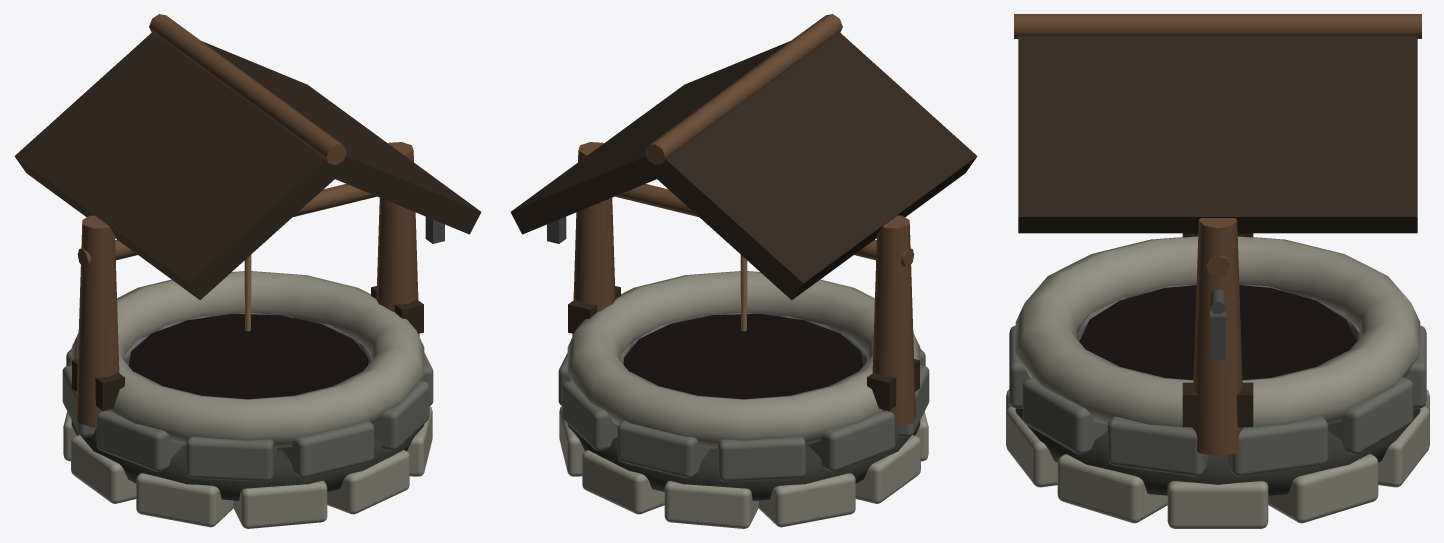
File: sk_well.glb
3 renders of one model, left to right at view 1: azimuth 30°, elevation 25°; view 2: azimuth 150°, elevation 25°; view 3: azimuth 270°, elevation 25°, orthographic. The views are drawn at different scales.
Visible parts, largest first — view 1: wood, stone, object 6, brick; view 2: wood, stone, object 6, brick; view 3: wood, stone, object 6, brick, metal.
Boxes of the visible parts, left/top/right/bottom form: wood: left=14, top=14, right=481, bottom=427; stone: left=62, top=271, right=433, bottom=528; object 6: left=128, top=313, right=367, bottom=399; brick: left=71, top=420, right=424, bottom=500; wood: left=510, top=14, right=977, bottom=427; stone: left=558, top=271, right=929, bottom=528; object 6: left=624, top=313, right=863, bottom=399; brick: left=567, top=420, right=920, bottom=500; wood: left=1014, top=14, right=1421, bottom=456; stone: left=1006, top=236, right=1429, bottom=528; object 6: left=1079, top=285, right=1356, bottom=379; brick: left=1015, top=408, right=1420, bottom=495; metal: left=1210, top=289, right=1225, bottom=359.
Size of the model in its own units: 1.63 by 1.6 by 1.43.
